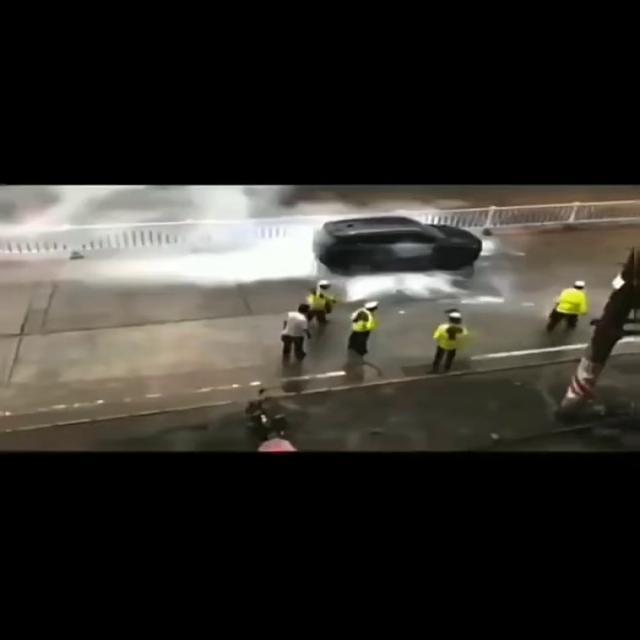Smoke: (1, 184, 331, 286)
